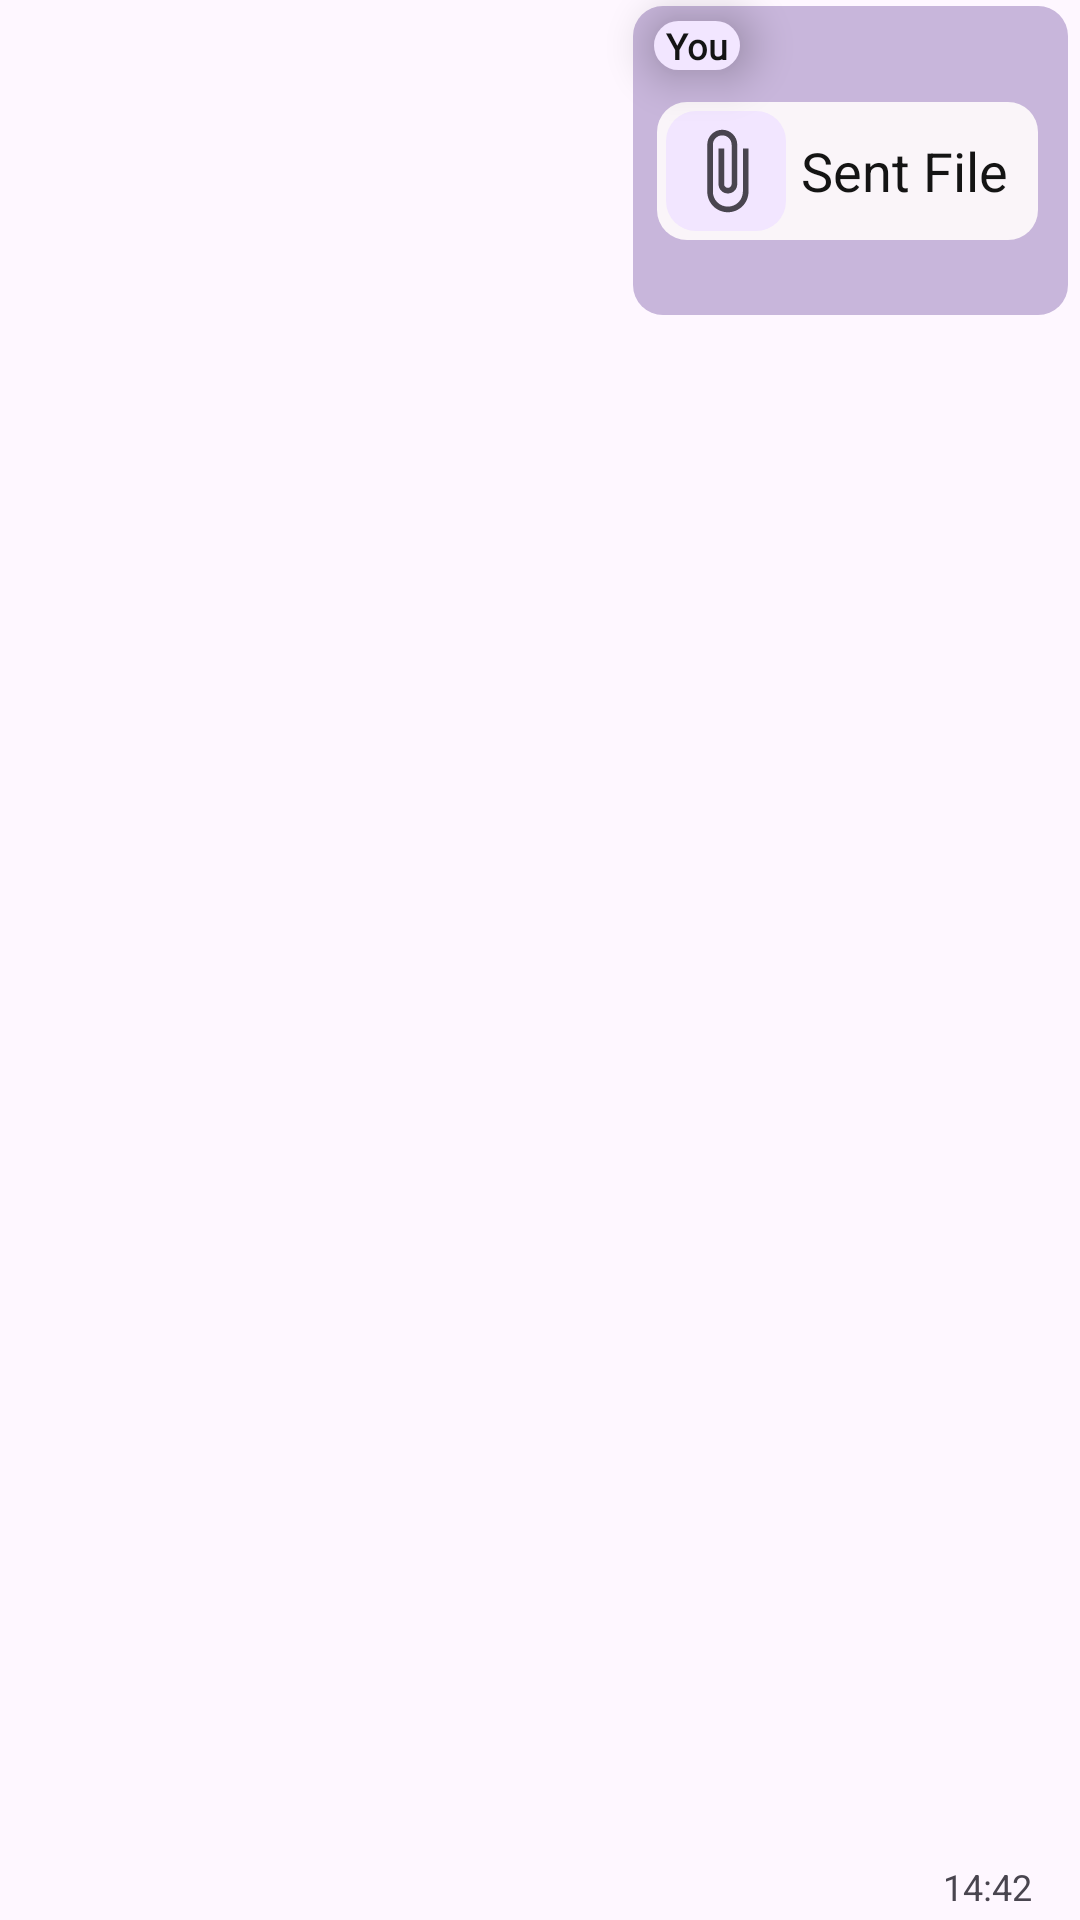

Named icons in this screenshot (1080 × 1920) and their centers, (x=x, y=y):
attach file: (x=728, y=171)
